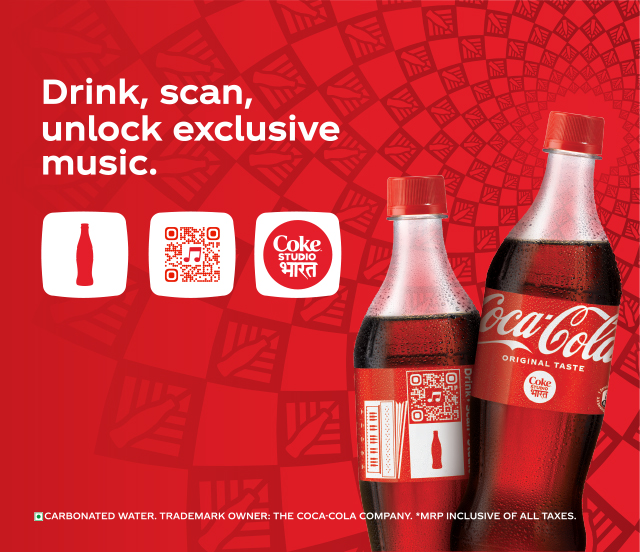Coca-Cola: (32, 28, 608, 524)
